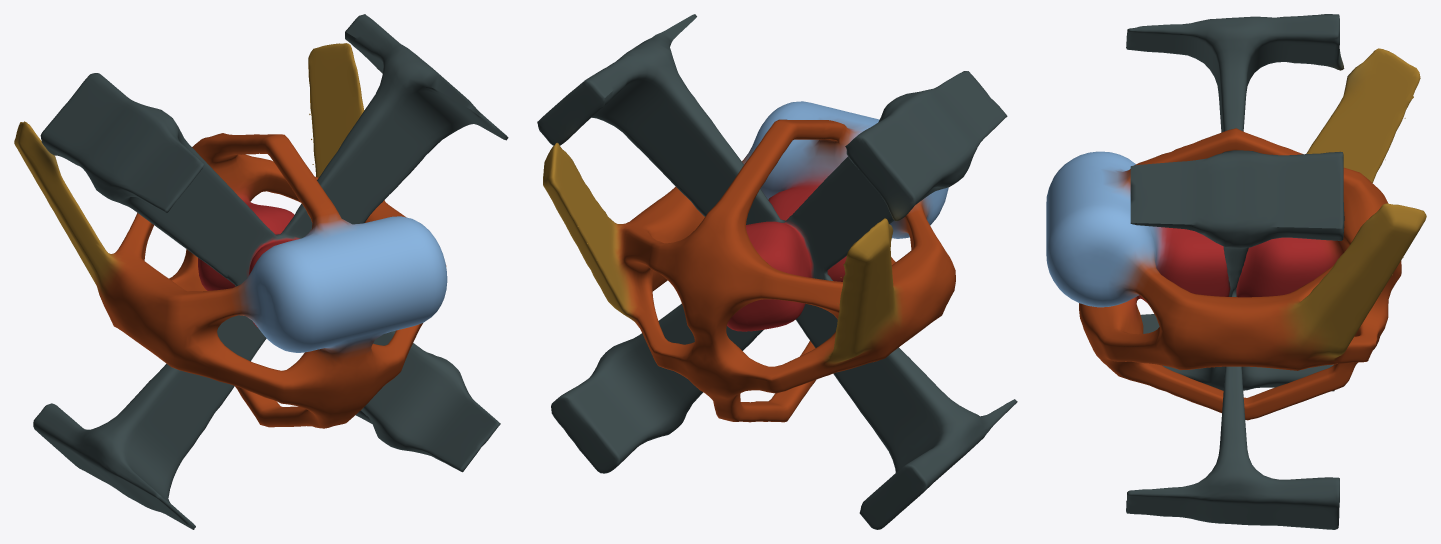
The model's file is playerdrone.fbx.
The picture shows the model from 3 angles, left to right: view 1: azimuth 30°, elevation 25°; view 2: azimuth 150°, elevation 25°; view 3: azimuth 270°, elevation 25°; orthographic projection. The views are drawn at different scales.
Visible parts, largest first — view 1: Retopo_player drone 2; view 2: Retopo_player drone 2; view 3: Retopo_player drone 2.
Boxes of the visible parts, x1,y1,x2,y2 form: Retopo_player drone 2: (14,14,508,529); Retopo_player drone 2: (537,14,1017,529); Retopo_player drone 2: (1046,14,1426,529).
Size of the model in its own units: 479 by 478 by 422.
